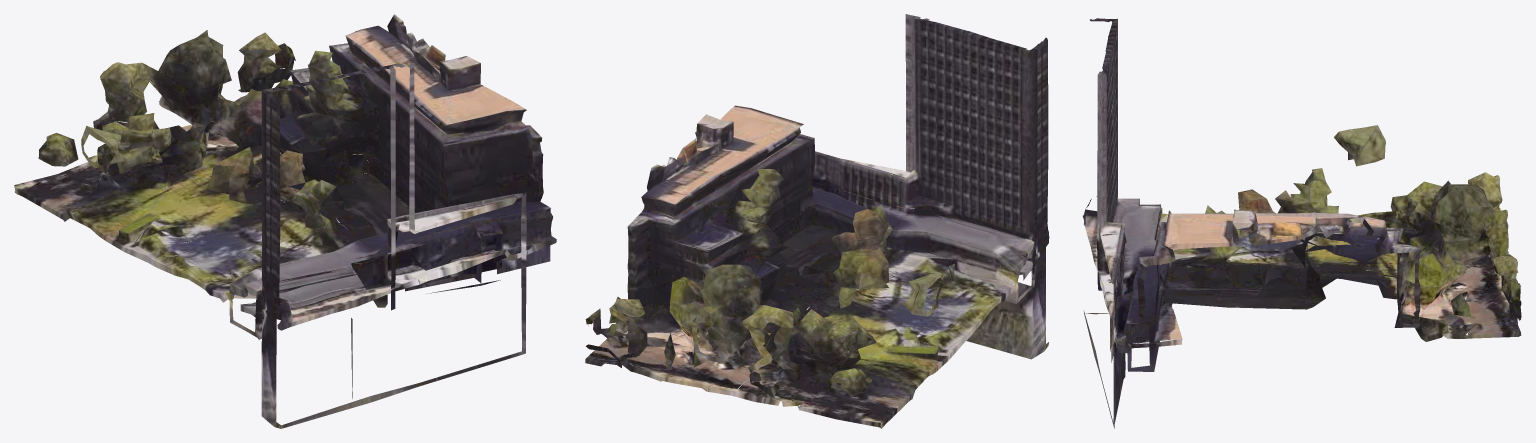
The picture shows the model from 3 angles, left to right: view 1: azimuth 30°, elevation 25°; view 2: azimuth 150°, elevation 25°; view 3: azimuth 270°, elevation 25°; orthographic projection. The views are drawn at different scales.
Visible parts, largest first — view 1: Mesh_0; view 2: Mesh_0; view 3: Mesh_0.
Boxes of the visible parts, x1=… form: Mesh_0: x1=14, y1=14, x2=556, y2=428; Mesh_0: x1=585, y1=14, x2=1049, y2=428; Mesh_0: x1=1082, y1=18, x2=1521, y2=428.
Bounding box in the file's own units: 66.58 × 62.52 × 82.72.
2 materials, 2 textured.
